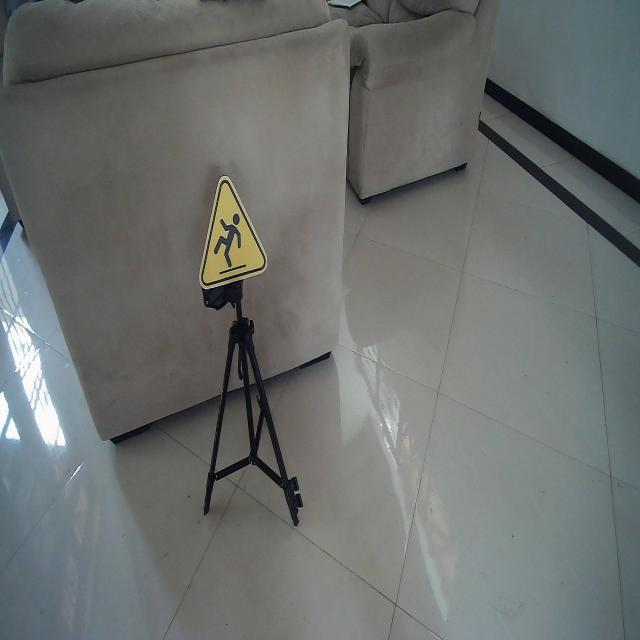slippery_sign: (196, 173, 268, 293)
